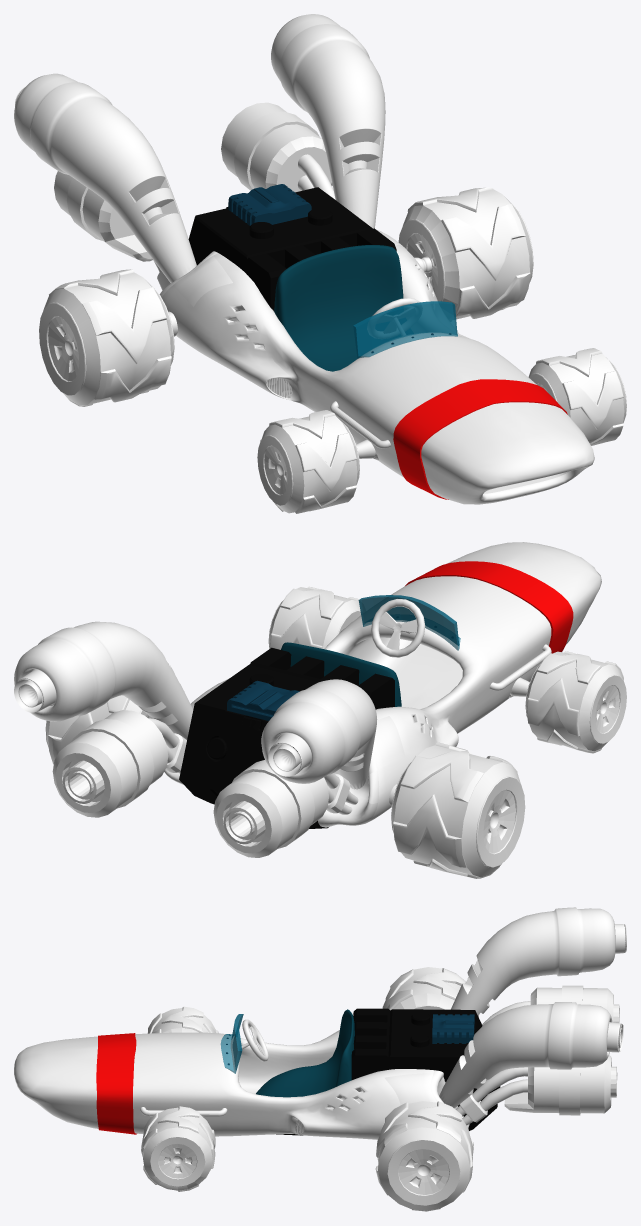
File: skibidi car rig.fbx
3 views of the same model, one above another, from view 1: azimuth 30°, elevation 25°; view 2: azimuth 150°, elevation 25°; view 3: azimuth 270°, elevation 25° (orthographic). The views are drawn at different scales.
Parts seen in each view (by area): view 1: polySurface1_metal_0, polySurface1_metal_0.002, polySurface1_metal_0.005, polySurface1_metal_0.003, polySurface1_metal_0.004; view 2: polySurface1_metal_0, polySurface1_metal_0.002, polySurface1_metal_0.003, polySurface1_metal_0.004, polySurface1_metal_0.005; view 3: polySurface1_metal_0, polySurface1_metal_0.005, polySurface1_metal_0.004, polySurface1_metal_0.002, polySurface1_metal_0.003.
Boxes of the visible parts, <box> form: polySurface1_metal_0: <box>14,14,594,504</box>; polySurface1_metal_0.002: <box>39,269,174,406</box>; polySurface1_metal_0.005: <box>398,187,533,319</box>; polySurface1_metal_0.003: <box>257,410,359,513</box>; polySurface1_metal_0.004: <box>528,348,626,445</box>; polySurface1_metal_0: <box>14,542,601,857</box>; polySurface1_metal_0.002: <box>391,742,525,878</box>; polySurface1_metal_0.003: <box>525,651,626,753</box>; polySurface1_metal_0.004: <box>268,586,360,649</box>; polySurface1_metal_0.005: <box>45,695,153,764</box>; polySurface1_metal_0: <box>14,907,626,1139</box>; polySurface1_metal_0.005: <box>375,1101,473,1211</box>; polySurface1_metal_0.004: <box>141,1106,215,1191</box>; polySurface1_metal_0.002: <box>382,967,478,1016</box>; polySurface1_metal_0.003: <box>147,1006,218,1033</box>.
Size of the model in its own units: 1236 by 614 by 1914.
